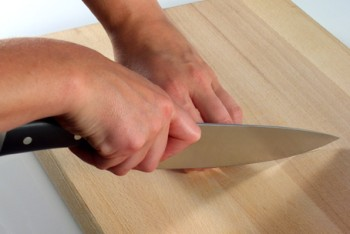knife: (99, 109, 341, 176)
